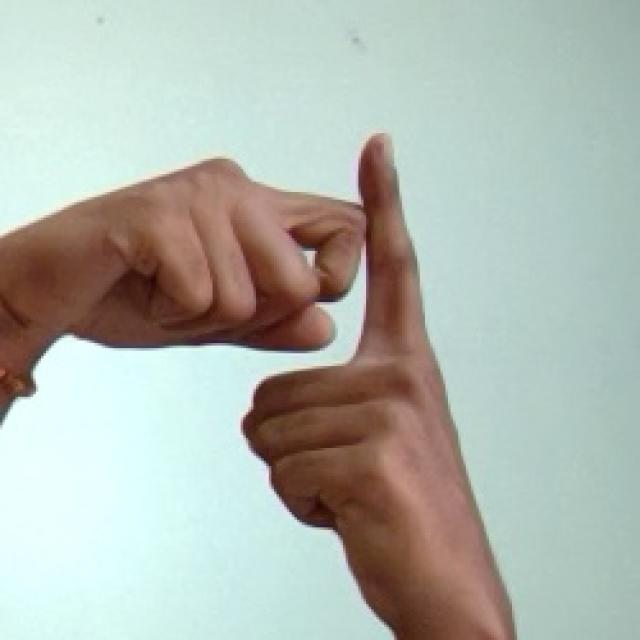Alphabet-K: (57, 136, 530, 598)
